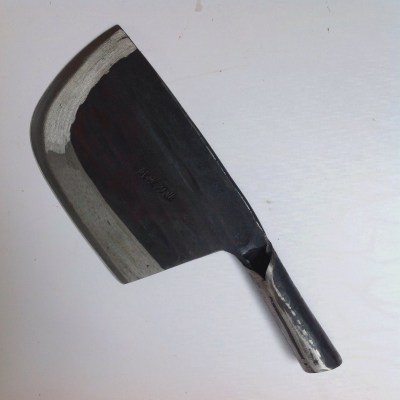knief: (24, 49, 354, 373)
